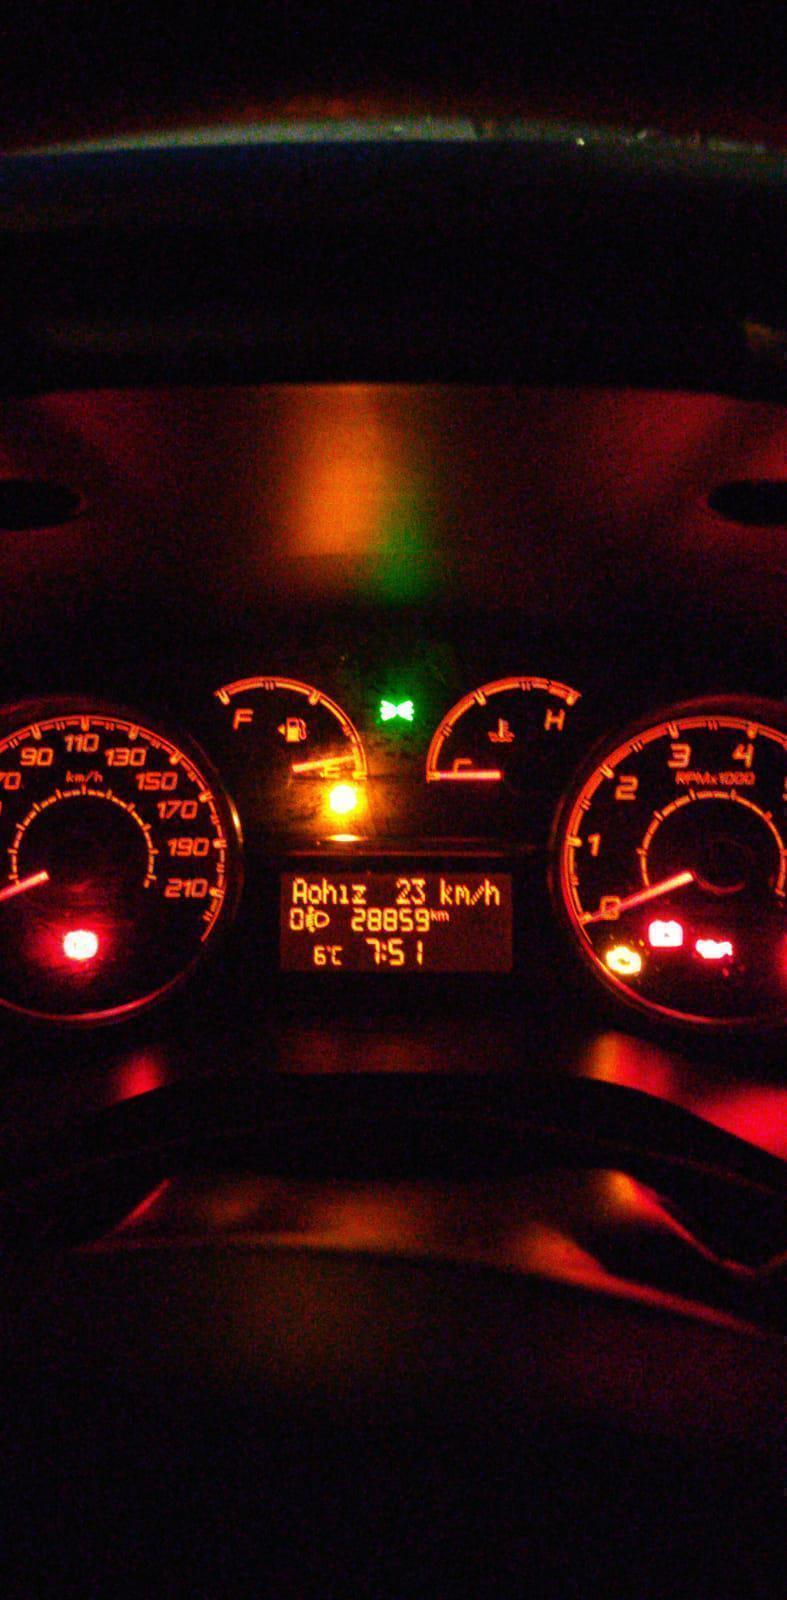0: (288, 906, 304, 931)
1: (414, 937, 426, 967)
2: (396, 876, 410, 905), (350, 908, 365, 931)
3: (411, 876, 425, 906)
5: (388, 937, 404, 966), (399, 907, 413, 934)
6: (313, 942, 325, 966)
7: (365, 935, 380, 965)
8: (366, 905, 382, 932), (382, 905, 396, 932)
9: (414, 907, 430, 933)
X: (484, 877, 502, 908), (289, 876, 306, 905), (322, 876, 338, 905), (438, 877, 453, 905), (351, 881, 368, 905), (331, 943, 348, 965), (469, 884, 484, 906), (453, 882, 469, 903), (339, 881, 351, 906), (307, 883, 322, 904), (438, 909, 450, 922), (380, 942, 387, 964), (429, 907, 439, 922)
odometer: (276, 867, 519, 976)
